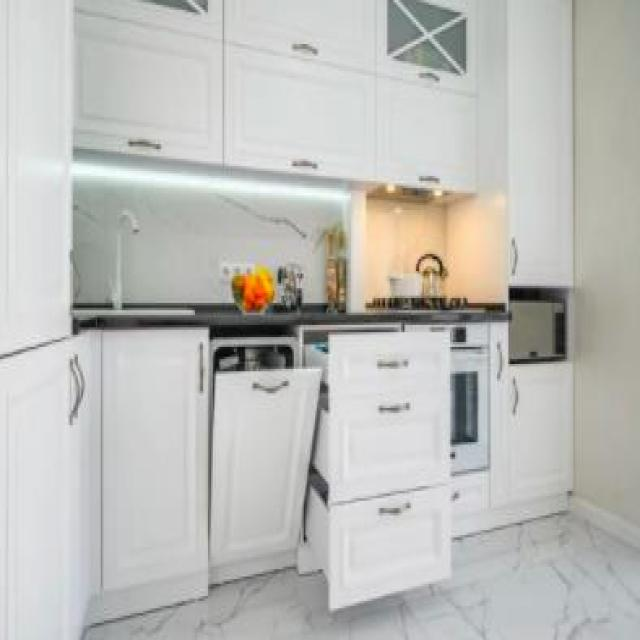dishwasher: (206, 320, 324, 584)
